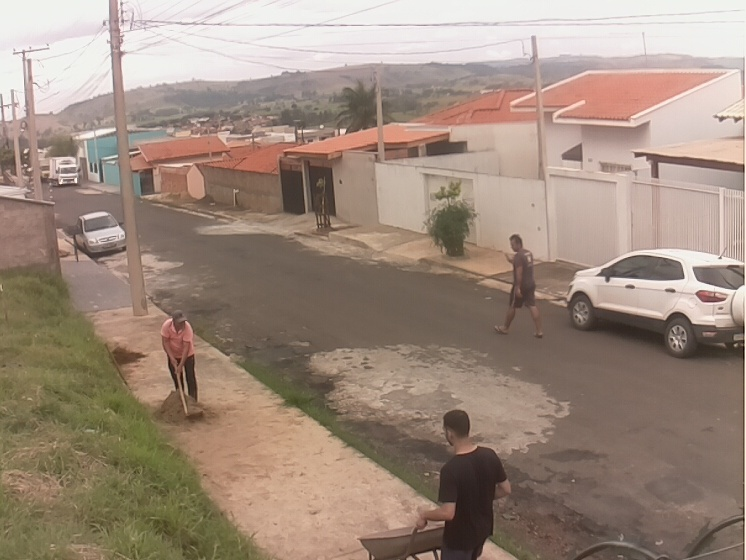person: (414, 408, 513, 560), (492, 233, 544, 338), (160, 309, 199, 403)
